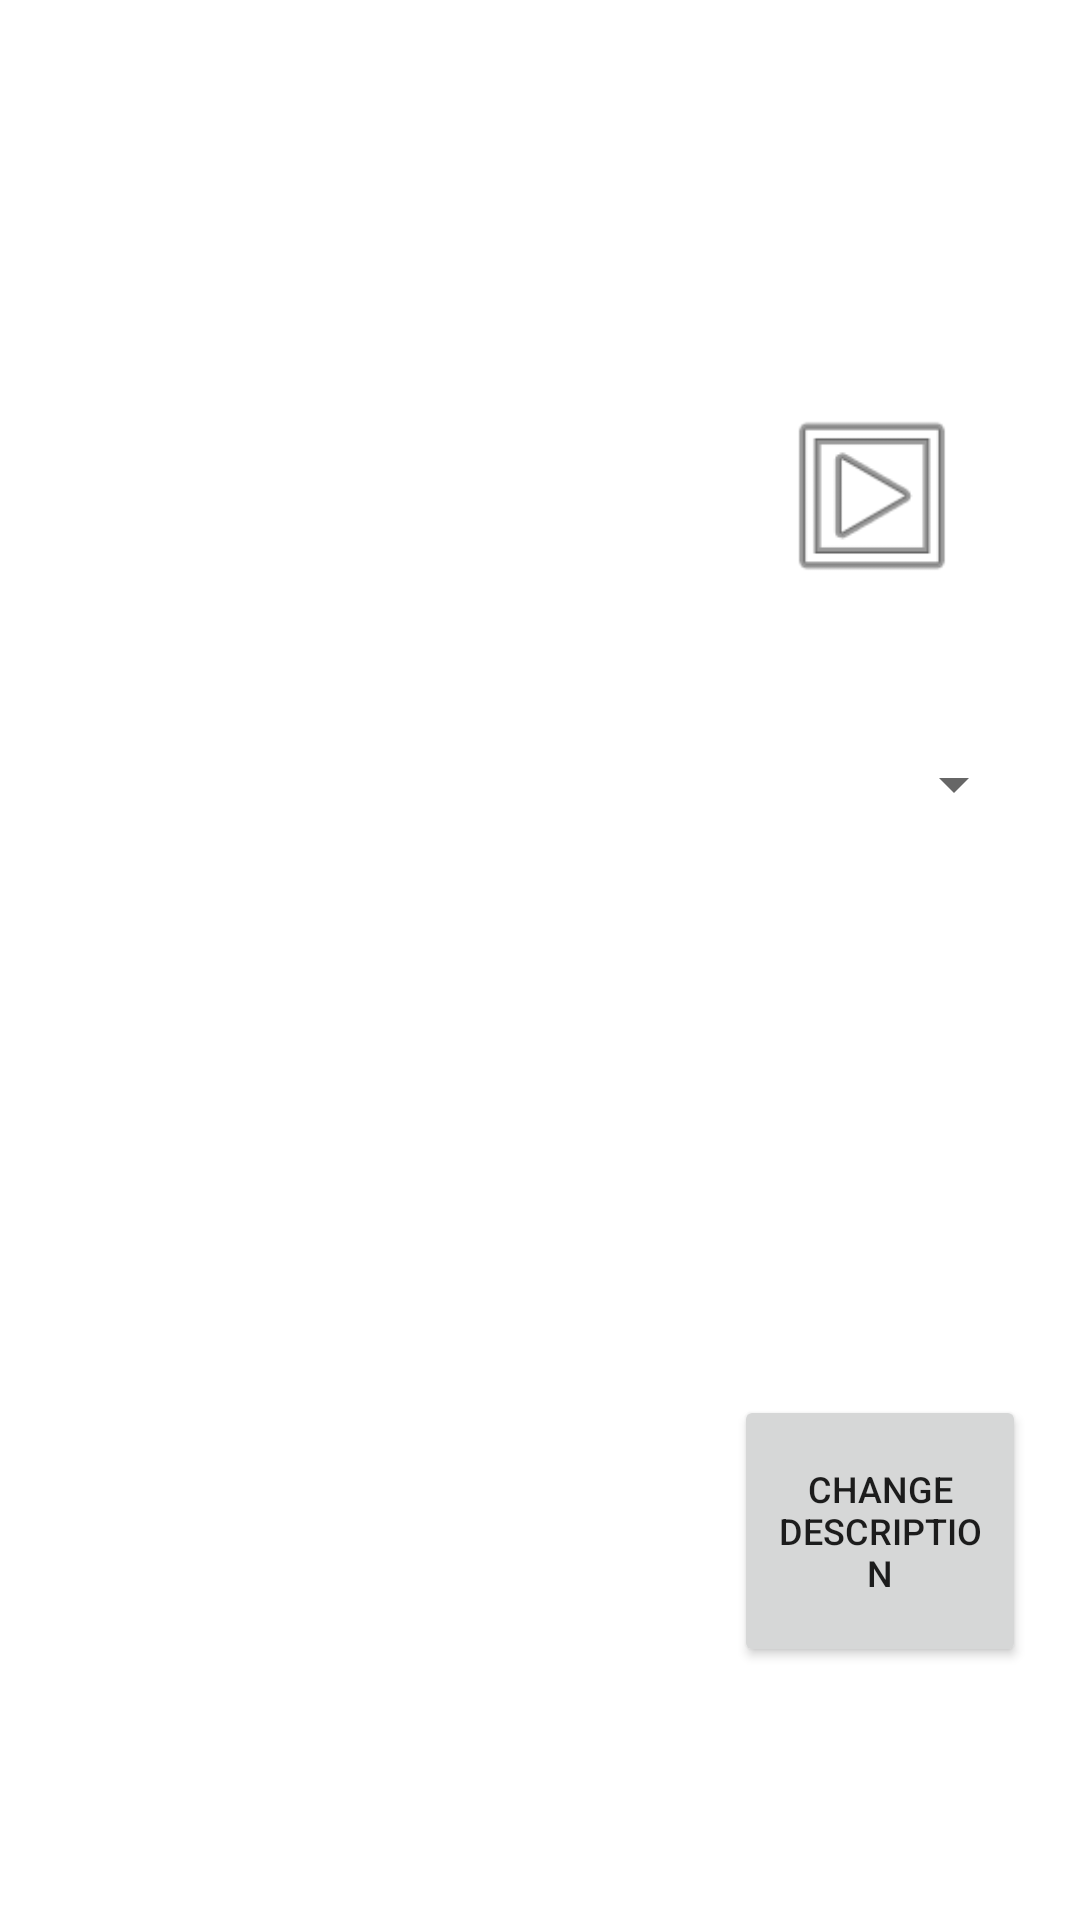

Where to tap for icons on this 1080px×1920px app screen, as (x,y):
slideshow: (872,496)
